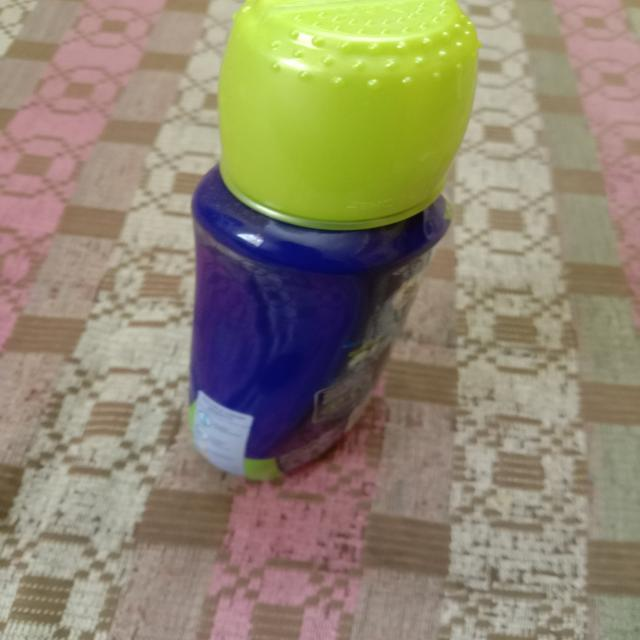detergent: (159, 2, 483, 476)
